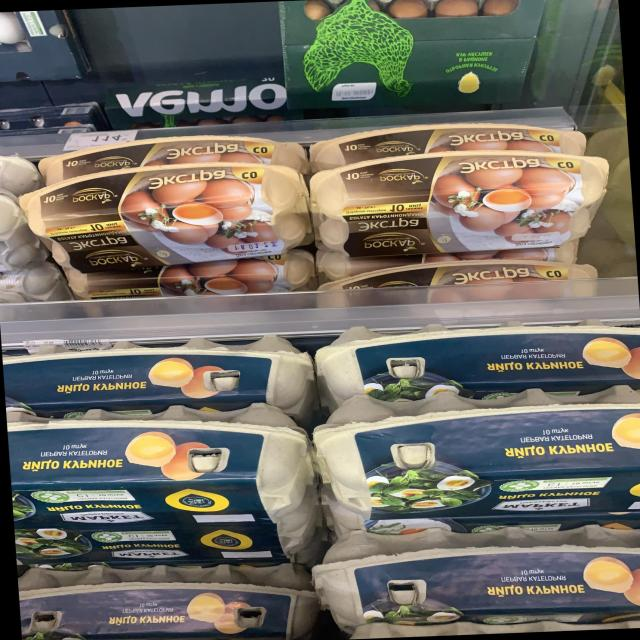organic waste: (312, 383, 639, 524), (6, 396, 319, 530), (308, 520, 640, 633), (307, 149, 626, 258), (15, 166, 312, 270), (310, 320, 640, 400), (1, 333, 311, 414), (17, 564, 312, 640), (14, 514, 314, 572)
